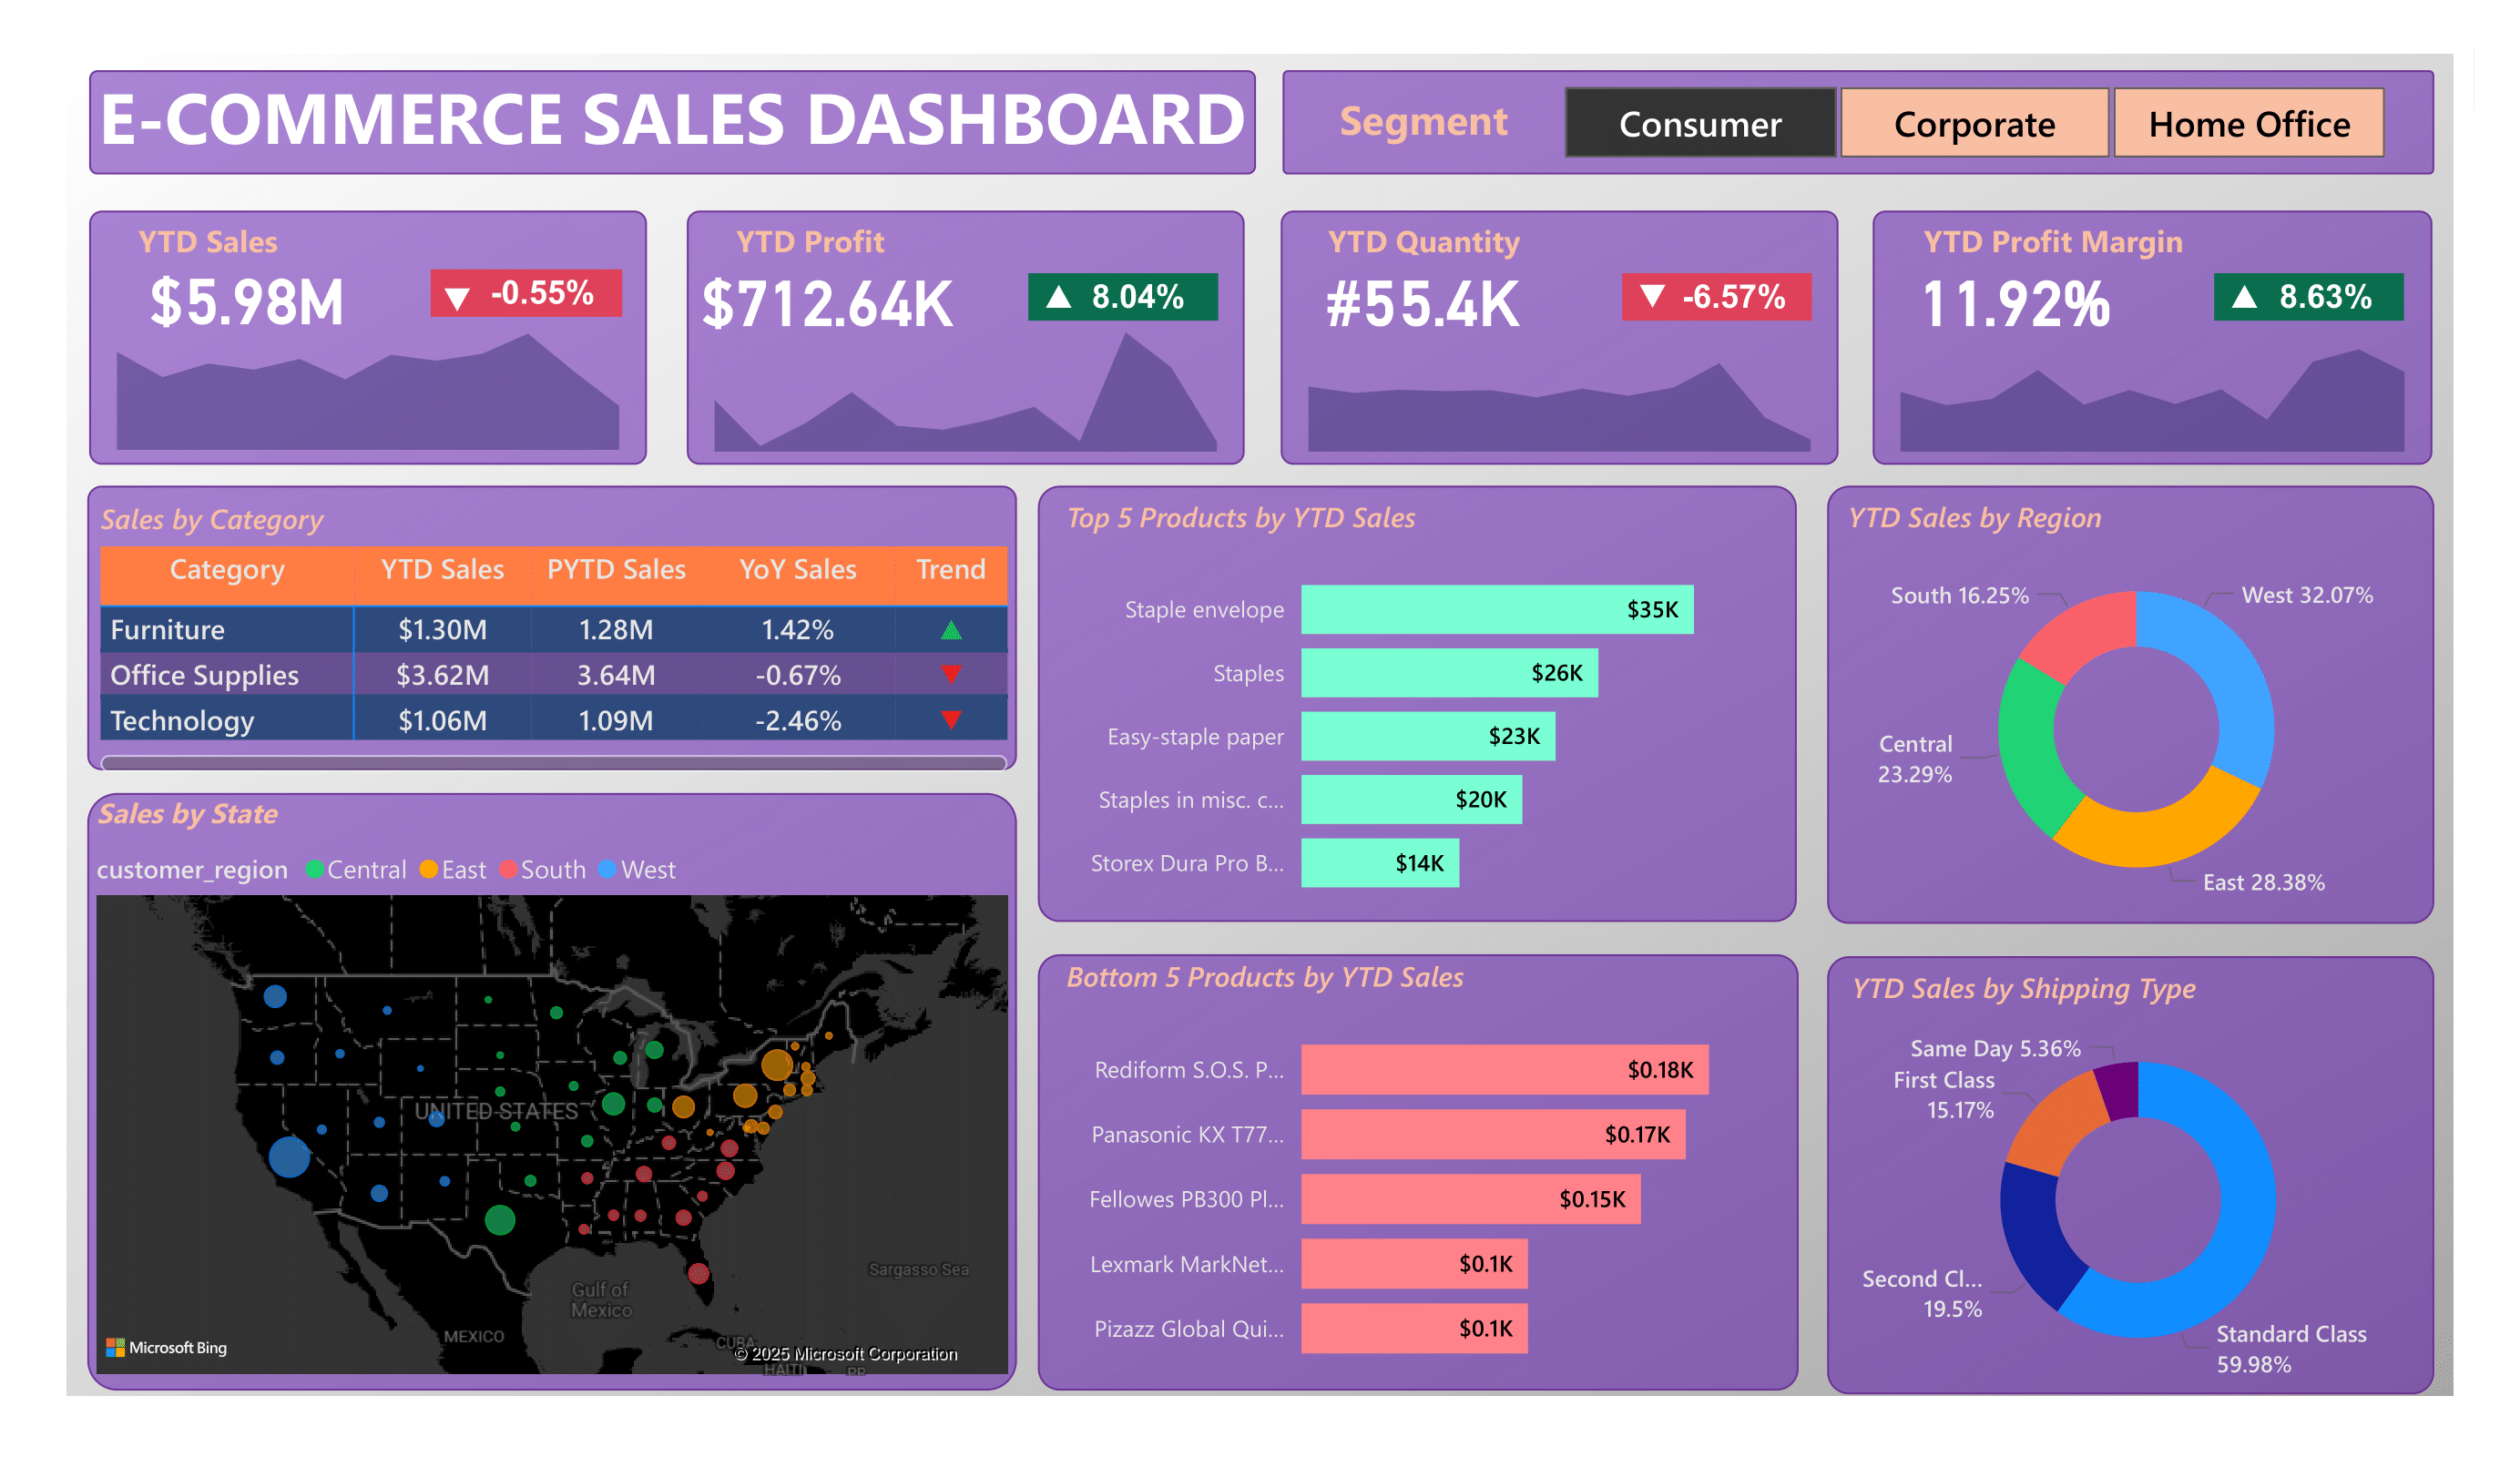

Layout of this report page (visuals, bound fields, positions):
{"tool":"powerbi","page":{"name":"Page 1","canvas":[1280,720],"ordinal":0},"visuals":[{"type":"shape","box":[22.9,12.7,615,55],"z":0},{"type":"textbox","box":[23.4,6.7,626.7,62],"z":1000},{"type":"shape","box":[22.9,87.5,294.3,133.6],"z":2000},{"type":"card","fields":{"Values":["ecommerce_data.YTD Sales"]},"box":[32.1,105.8,149.3,52.9],"z":3000},{"type":"areaChart","fields":{"Category":["Calendar.Month"],"Y":["Sum(ecommerce_data.sales_per_order)"]},"box":[22.9,132,294.3,85.9],"z":4000},{"type":"shape","box":[203.3,117.9,100.2,25.4],"z":5000},{"type":"card","fields":{"Values":["ecommerce_data.YoY Sales"]},"box":[227.2,117.9,70,27],"z":6000},{"type":"card","fields":{"Values":["ecommerce_data.Sales Icon"]},"box":[202,120.9,30.2,28.6],"z":7000},{"type":"textbox","box":[44.3,86.8,95.4,38.2],"z":8000},{"type":"shape","box":[337.8,87.5,294.3,133.6],"z":9000},{"type":"card","fields":{"Values":["ecommerce_data.YTD Profit"]},"box":[338.3,107.1,147.9,52.5],"z":10000},{"type":"areaChart","fields":{"Category":["Calendar.Month"],"Y":["Sum(ecommerce_data.profit_per_order)"]},"box":[337.9,133.2,294.3,85.9],"z":11000},{"type":"shape","box":[517.5,119.7,100.2,25.4],"z":12000},{"type":"card","fields":{"Values":["ecommerce_data.YoY Profit"]},"box":[541.4,119.7,70,27],"z":13000},{"type":"card","fields":{"Values":["ecommerce_data.Profit Icon"]},"box":[518.5,119.3,30.2,28.6],"z":14000},{"type":"textbox","box":[358.6,87,100.2,38.2],"z":15000},{"type":"shape","box":[651.2,87.5,294.3,133.6],"z":16000},{"type":"card","fields":{"Values":["ecommerce_data.YTD Concatenated Qty"]},"box":[651.7,107.1,147.9,52.5],"z":17000},{"type":"areaChart","fields":{"Category":["Calendar.Month"],"Y":["Sum(ecommerce_data.order_quantity)"]},"box":[651.2,133.2,294.3,85.9],"z":18000},{"type":"shape","box":[830.9,119.7,100.2,25.4],"z":19000},{"type":"card","fields":{"Values":["ecommerce_data.YoY Qty"]},"box":[854.8,119.7,70,27],"z":20000},{"type":"card","fields":{"Values":["ecommerce_data.Qty Icon"]},"box":[831.9,119.3,30.2,28.6],"z":21000},{"type":"textbox","box":[671.2,87.5,128.8,38.2],"z":22000},{"type":"shape","box":[963.3,87.5,294.3,133.6],"z":23000},{"type":"card","fields":{"Values":["ecommerce_data.YTD Profit Margin"]},"box":[963.8,107.1,147.9,52.5],"z":24000},{"type":"areaChart","fields":{"Category":["Calendar.Month"],"Y":["ecommerce_data.Profit Margin"]},"box":[963.4,133.2,294.3,85.9],"z":25000},{"type":"shape","box":[1143.1,119.7,100.2,25.4],"z":26000},{"type":"card","fields":{"Values":["ecommerce_data.YoY Profit Margin"]},"box":[1166.9,119.7,70,27],"z":27000},{"type":"card","fields":{"Values":["ecommerce_data.Profit Margin Icon"]},"box":[1143.6,119.3,30.2,28.6],"z":28000},{"type":"textbox","box":[984.6,87.5,159.1,38.2],"z":29000},{"type":"shape","box":[22.3,232.2,490,150],"z":30000},{"type":"pivotTable","title":"Sales by Category","fields":{"Rows":["ecommerce_data.category_name"],"Values":["ecommerce_data.YTD Sales","ecommerce_data.PYTD Sales","ecommerce_data.YoY Sales","ecommerce_data.Sales Icon"]},"box":[23.9,238.6,488.3,149.5],"z":31000},{"type":"shape","box":[22.3,394.5,489.9,314.9],"z":32000},{"type":"map","title":"Sales by State","fields":{"Y":["us_state_long_lat_codes.latitude"],"X":["us_state_long_lat_codes.longitude"],"Size":["ecommerce_data.YTD Sales"],"Series":["ecommerce_data.customer_region"]},"box":[22.3,394.5,489.9,311.8],"z":33000},{"type":"shape","box":[523.3,232.2,400,230],"z":34000},{"type":"shape","box":[523.3,478.8,400.8,230],"z":35000},{"type":"barChart","title":"Top 5 Products by YTD Sales","fields":{"Category":["ecommerce_data.product_name"],"Y":["ecommerce_data.YTD Sales"]},"box":[532.9,238.1,389.3,224.9],"z":36000},{"type":"barChart","title":"Bottom 5 Products by YTD Sales","fields":{"Category":["ecommerce_data.product_name"],"Y":["ecommerce_data.YTD Sales"]},"box":[532.9,480,389.3,228.7],"z":37000},{"type":"shape","box":[939.2,232.4,319.4,230.6],"z":38000},{"type":"shape","box":[939.2,480,319.4,230.6],"z":39000},{"type":"donutChart","title":"YTD Sales by Region","fields":{"Category":["ecommerce_data.customer_region"],"Y":["ecommerce_data.YTD Sales"]},"box":[944.9,238.1,313.7,224.9],"z":40000},{"type":"donutChart","title":"YTD Sales by Shipping Type","fields":{"Y":["ecommerce_data.YTD Sales"],"Category":["ecommerce_data.shipping_type"]},"box":[946.8,485.7,311.8,224.9],"z":41000},{"type":"shape","box":[652,13.2,606.6,54.8],"z":42000},{"type":"slicer","fields":{"Values":["ecommerce_data.customer_segment"]},"box":[774.8,15.1,481.9,51],"z":43000},{"type":"textbox","box":[676.5,18.9,111.5,45.4],"z":44000}]}

Visuals, with their boxes in screenshot pixels (x1, y1, x2, y2):
shape: <box>89,70,1240,173</box>
textbox: <box>90,58,1263,175</box>
shape: <box>89,209,640,460</box>
card - ecommerce_data.YTD Sales: <box>106,244,385,343</box>
areaChart - Calendar.Month x Sum(ecommerce_data.sales_per_order): <box>89,293,640,453</box>
shape: <box>426,267,615,314</box>
card - ecommerce_data.YoY Sales: <box>472,267,603,317</box>
card - ecommerce_data.Sales Icon: <box>424,272,481,326</box>
textbox: <box>129,209,308,280</box>
shape: <box>678,209,1229,460</box>
card - ecommerce_data.YTD Profit: <box>679,247,956,345</box>
areaChart - Calendar.Month x Sum(ecommerce_data.profit_per_order): <box>678,295,1229,456</box>
shape: <box>1015,270,1203,318</box>
card - ecommerce_data.YoY Profit: <box>1060,270,1191,321</box>
card - ecommerce_data.Profit Icon: <box>1017,270,1074,323</box>
textbox: <box>718,209,905,280</box>
shape: <box>1265,209,1817,460</box>
card - ecommerce_data.YTD Concatenated Qty: <box>1267,247,1544,345</box>
areaChart - Calendar.Month x Sum(ecommerce_data.order_quantity): <box>1265,295,1817,456</box>
shape: <box>1602,270,1790,318</box>
card - ecommerce_data.YoY Qty: <box>1647,270,1778,321</box>
card - ecommerce_data.Qty Icon: <box>1604,270,1660,323</box>
textbox: <box>1303,209,1544,281</box>
shape: <box>1850,209,2401,460</box>
card - ecommerce_data.YTD Profit Margin: <box>1851,247,2127,345</box>
areaChart - Calendar.Month x ecommerce_data.Profit Margin: <box>1850,295,2402,456</box>
shape: <box>2187,270,2374,318</box>
card - ecommerce_data.YoY Profit Margin: <box>2231,270,2362,321</box>
card - ecommerce_data.Profit Margin Icon: <box>2188,270,2244,323</box>
textbox: <box>1890,209,2188,281</box>
shape: <box>87,481,1005,761</box>
"Sales by Category" pivotTable: <box>91,493,1005,772</box>
shape: <box>87,785,1005,1374</box>
"Sales by State" map: <box>87,785,1005,1369</box>
shape: <box>1025,481,1775,912</box>
shape: <box>1025,942,1777,1373</box>
"Top 5 Products by YTD Sales" barChart: <box>1044,492,1773,912</box>
"Bottom 5 Products by YTD Sales" barChart: <box>1044,944,1773,1373</box>
shape: <box>1805,481,2403,912</box>
shape: <box>1805,944,2403,1377</box>
"YTD Sales by Region" donutChart: <box>1815,492,2403,912</box>
"YTD Sales by Shipping Type" donutChart: <box>1819,955,2403,1377</box>
shape: <box>1267,71,2403,173</box>
slicer - ecommerce_data.customer_segment: <box>1497,74,2400,169</box>
textbox: <box>1312,81,1522,167</box>
